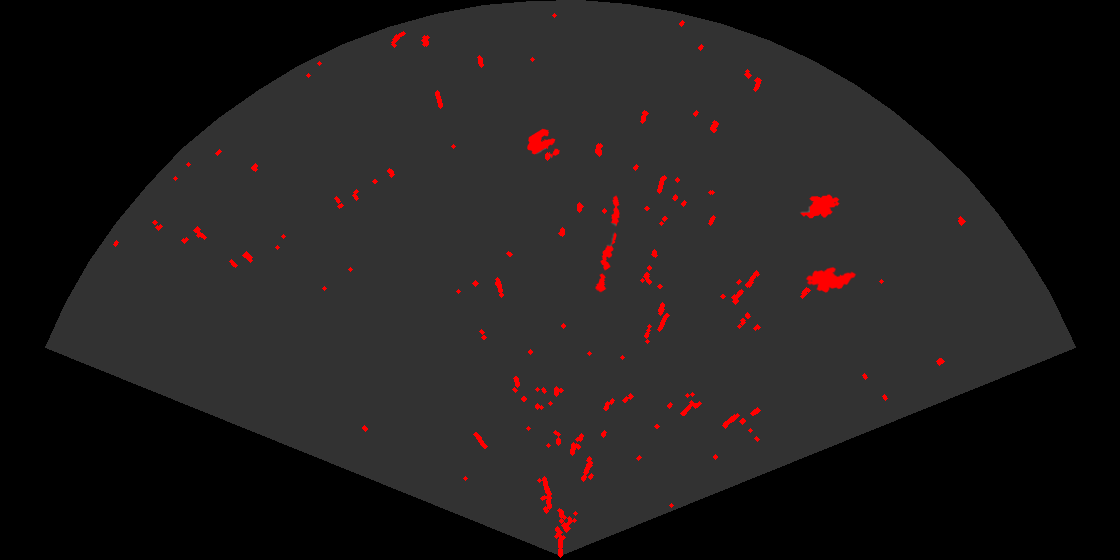AUV: (804, 265, 858, 294), (799, 193, 841, 220)
ball: (525, 127, 561, 159)
chain: (594, 194, 621, 295)
